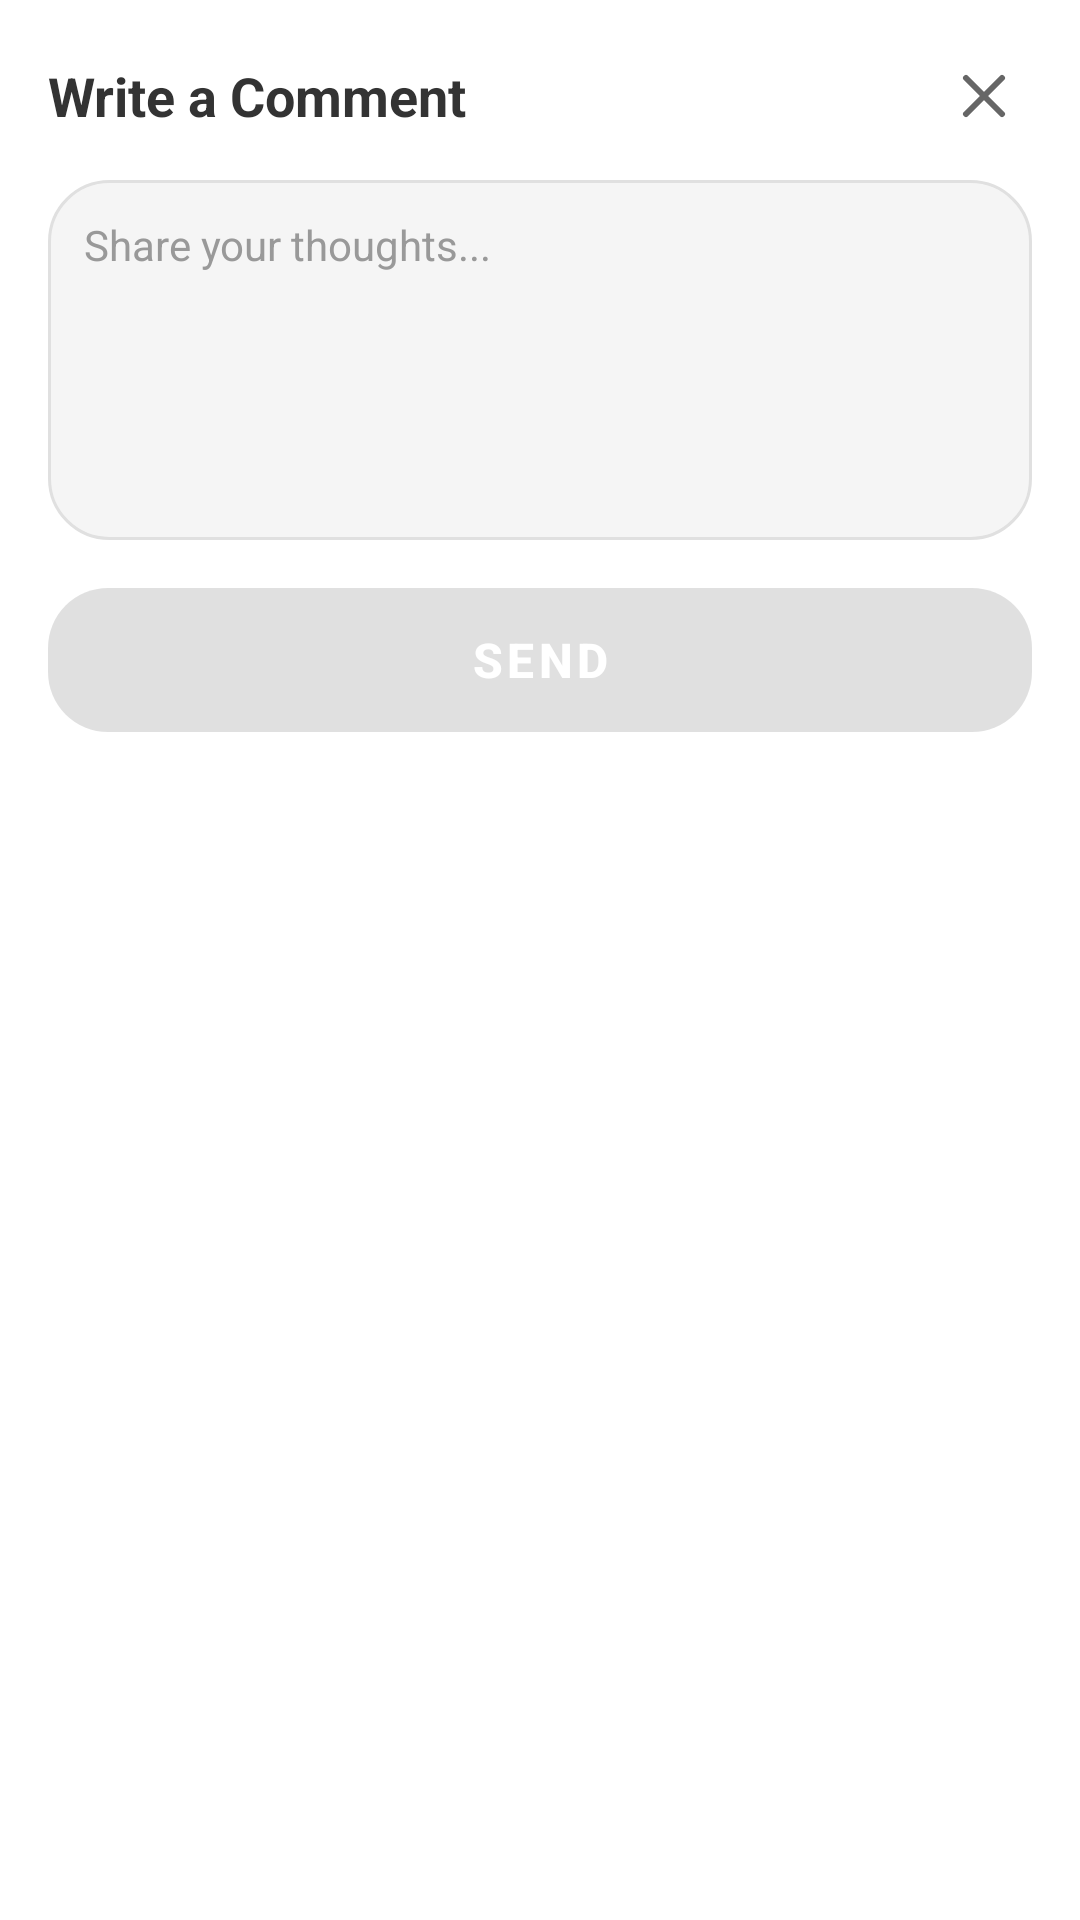

Named icons in this screenshot (1080w x 1920h) and their centers, (x=x, y=y):
Close: (x=984, y=96)
